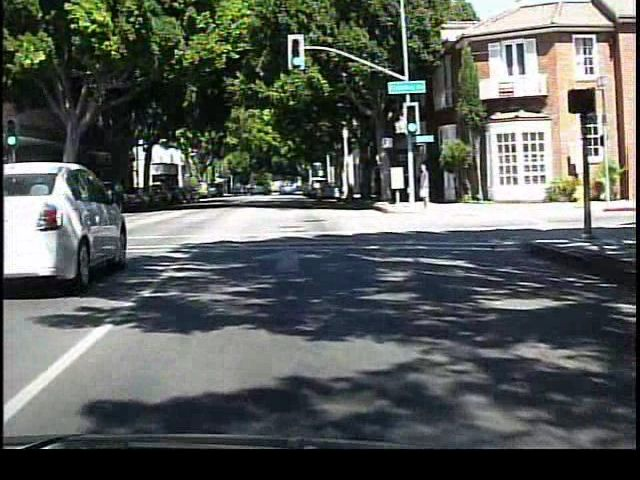person: (415, 158, 436, 213)
